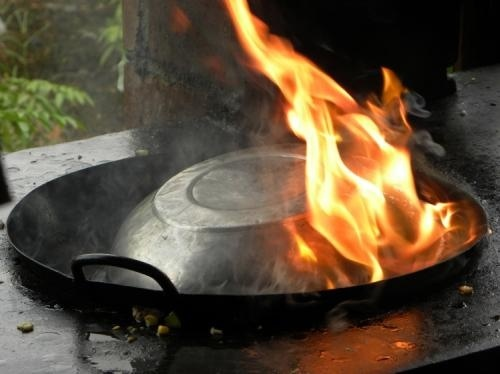fire: (216, 0, 455, 278)
